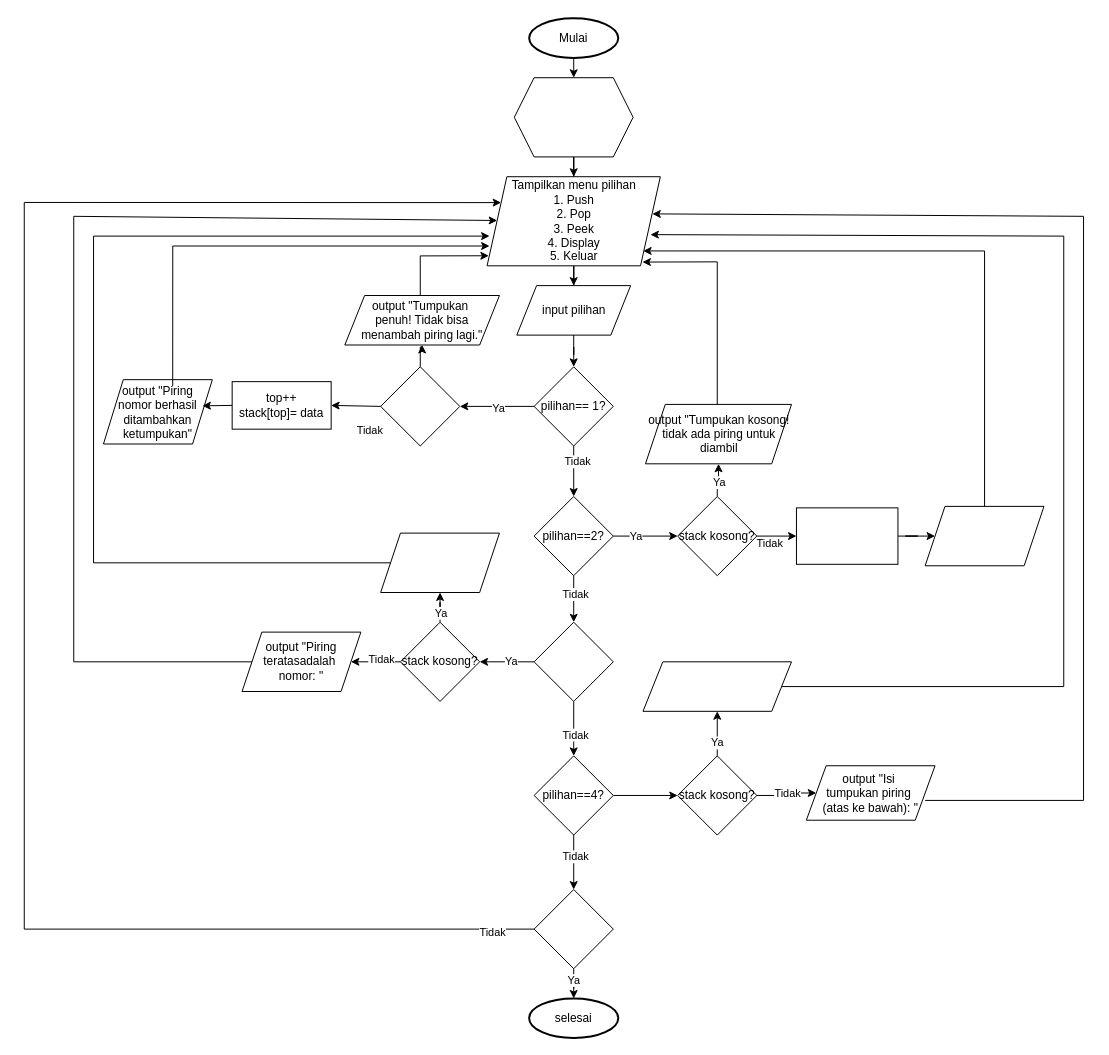
This 1109x1055 diagram has some shape labels left out. The centre of each missing label's shape, as x and y in pixels:
hapus elemen terakhir: point 846,535
inisialisasi variabel MAX = 5 top = -1: point 573,117
output "piring nomor diambil dari tumpukan ": point 984,535
output "Tumpukan kosong!": point 717,686
output "Tumpukan kosong": point 439,562
pilihan==3?: point 573,661
pilihan==5?: point 573,929
stack penuh?: point 420,406
